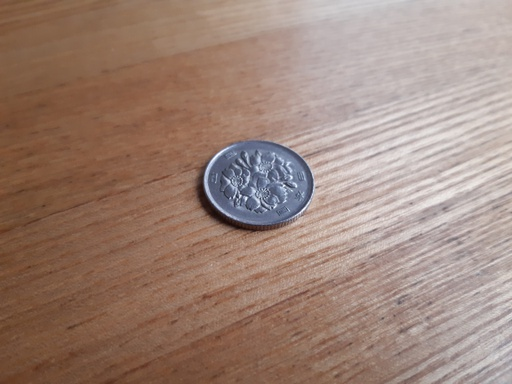100yen: (203, 141, 313, 230)
